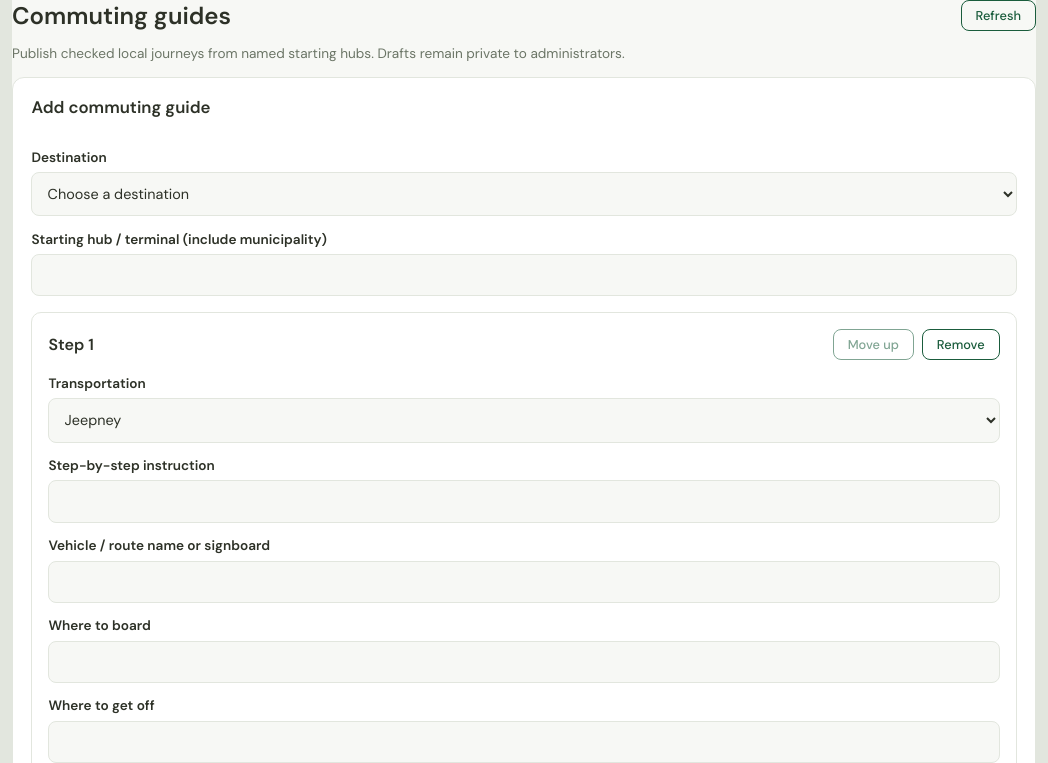
Test case: publishing incomplete commuting instructions is blocked before saving
The width and height of the screenshot is (1048, 763).
Step 1. Select "Test spot" in the dropdown labelled "Destination" → point(524, 194), box [31,172,1017,216]
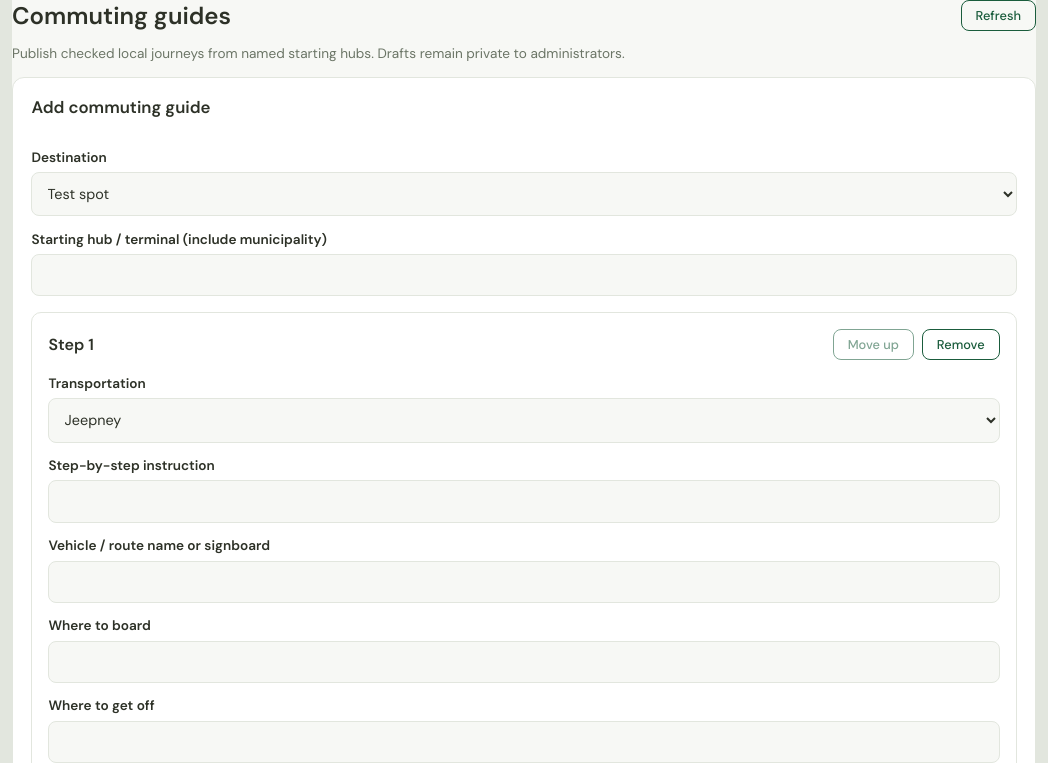
Step 2. Type "Test terminal" into the field labelled "Starting hub / terminal (include municipality)" → point(524, 275), box [31,254,1017,296]
(page scrolled)
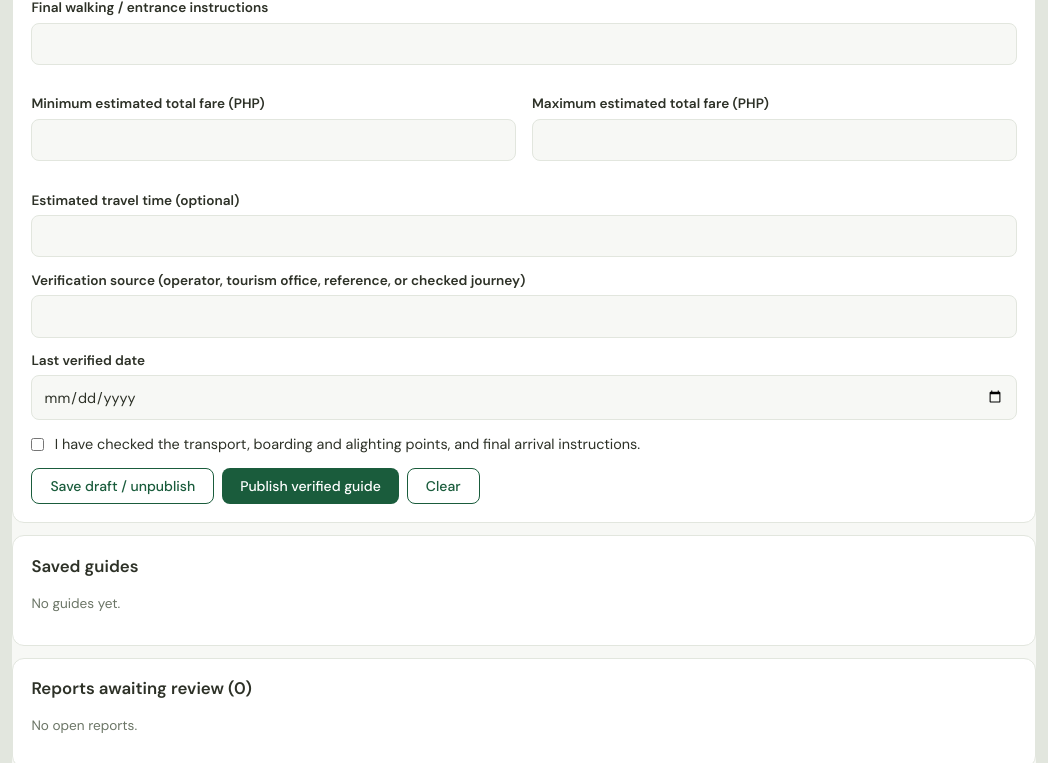
Step 3. Click the button "Publish verified guide" → point(310, 486), box [222,468,399,504]
(page scrolled)
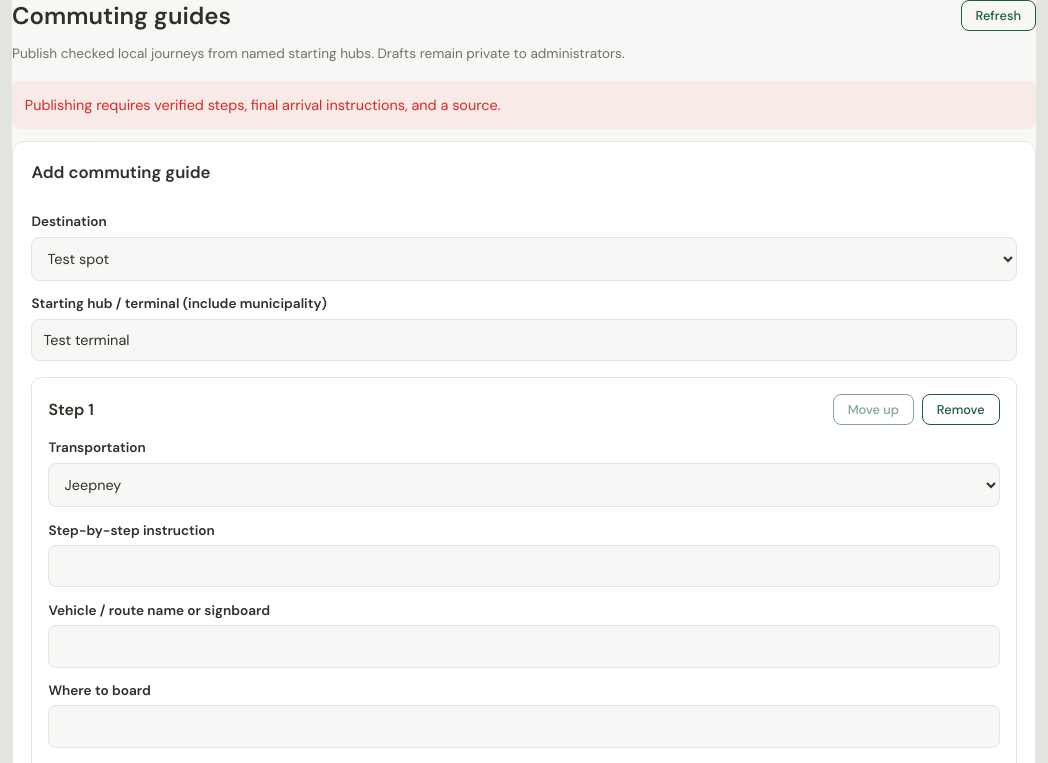
Now the message shows "Publishing requires", box [25,96,500,114]
